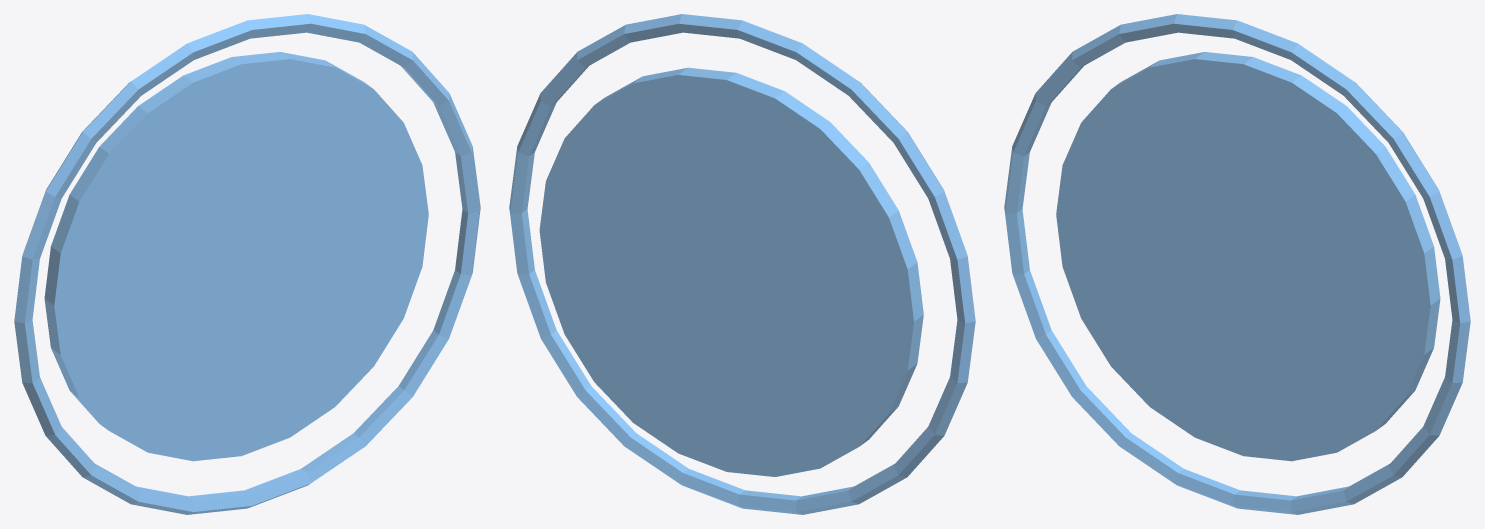
The model's file is rarity_base_rare.glb.
3 views of the same model, side by side, from view 1: azimuth 30°, elevation 25°; view 2: azimuth 150°, elevation 25°; view 3: azimuth 330°, elevation 25° (orthographic).
Visible parts, largest first — view 1: base_disc, outer_ring; view 2: base_disc, outer_ring; view 3: base_disc, outer_ring.
Part boxes in pixels (x1,y1,x2,y2): base_disc: [44, 52, 428, 461]; outer_ring: [14, 14, 480, 514]; base_disc: [539, 67, 923, 476]; outer_ring: [509, 14, 975, 514]; base_disc: [1056, 52, 1440, 461]; outer_ring: [1004, 14, 1470, 514].
Bounding box in the file's own units: 1.37 × 1.37 × 0.1038.
